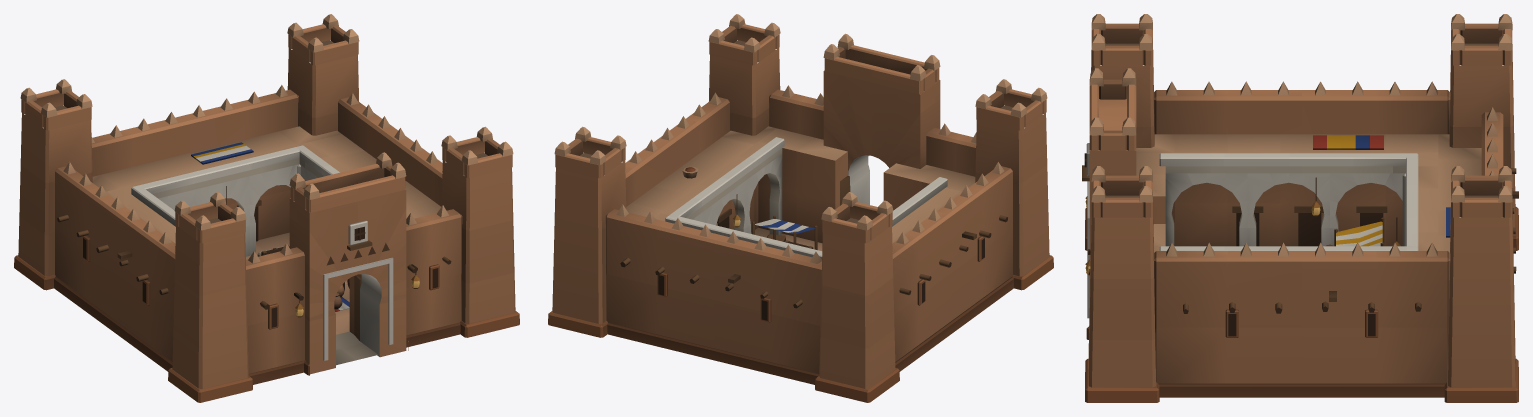
File: caravanserail.glb
3 views of the same model, side by side, from view 1: azimuth 30°, elevation 25°; view 2: azimuth 150°, elevation 25°; view 3: azimuth 270°, elevation 25° (orthographic). The views are drawn at different scales.
Visible parts, largest first — view 1: caravanserail; view 2: caravanserail; view 3: caravanserail.
Boxes of the visible parts, x1,y1,x2,y2 form: caravanserail: (14, 14, 519, 402); caravanserail: (548, 14, 1053, 402); caravanserail: (1082, 14, 1518, 402).
Size of the model in its own units: 2.8 by 1.55 by 2.82.
